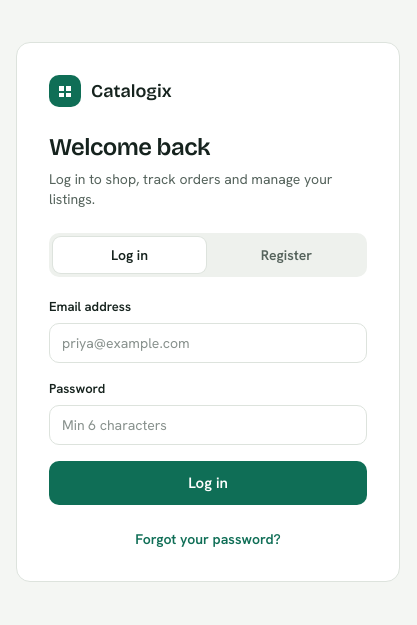
Test: Login › shows the server's error message when login fails
The image size is (417, 625).
Type "bad@example.com" into the field labelled "Email address" at (208,343), box [49,323,367,363]
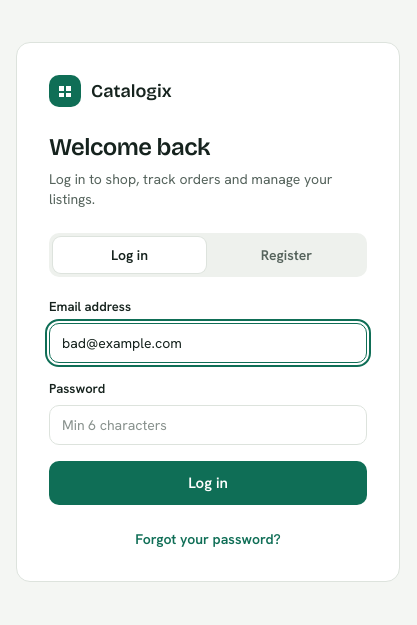
Type "wrongpass" into the password field labelled "Password" at (208,425), box [49,405,367,445]
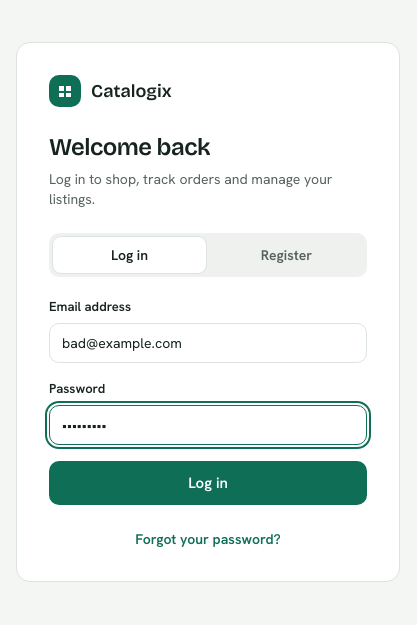
Click the button "Log in" below "Email address" at (208,483), box [49,461,367,505]
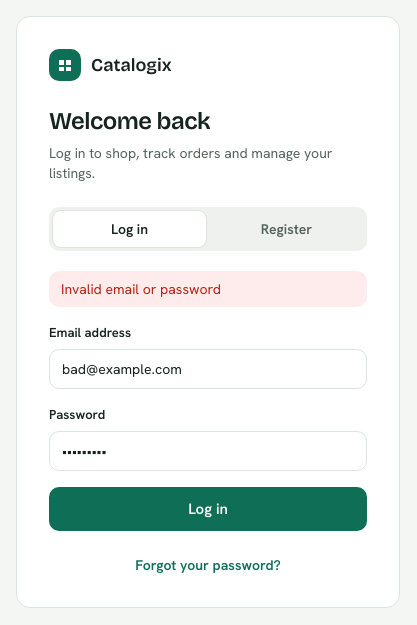
Now the text "Invalid email or password" is shown, box [49,271,367,307]
